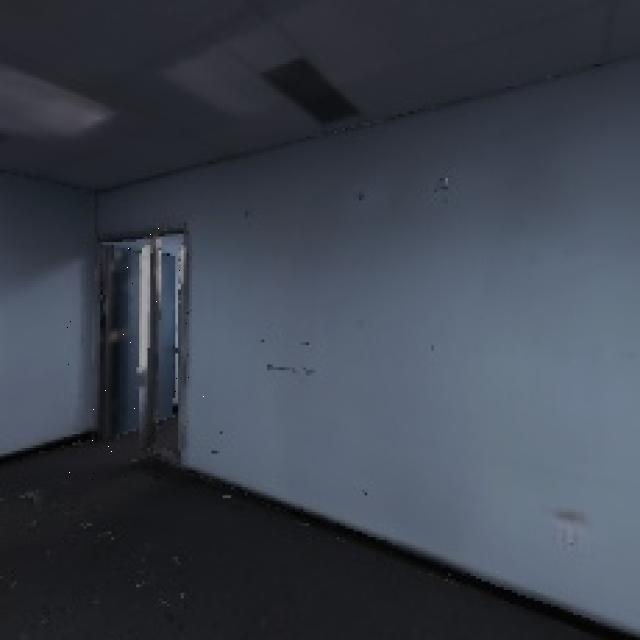door-frame: (65, 220, 212, 480)
